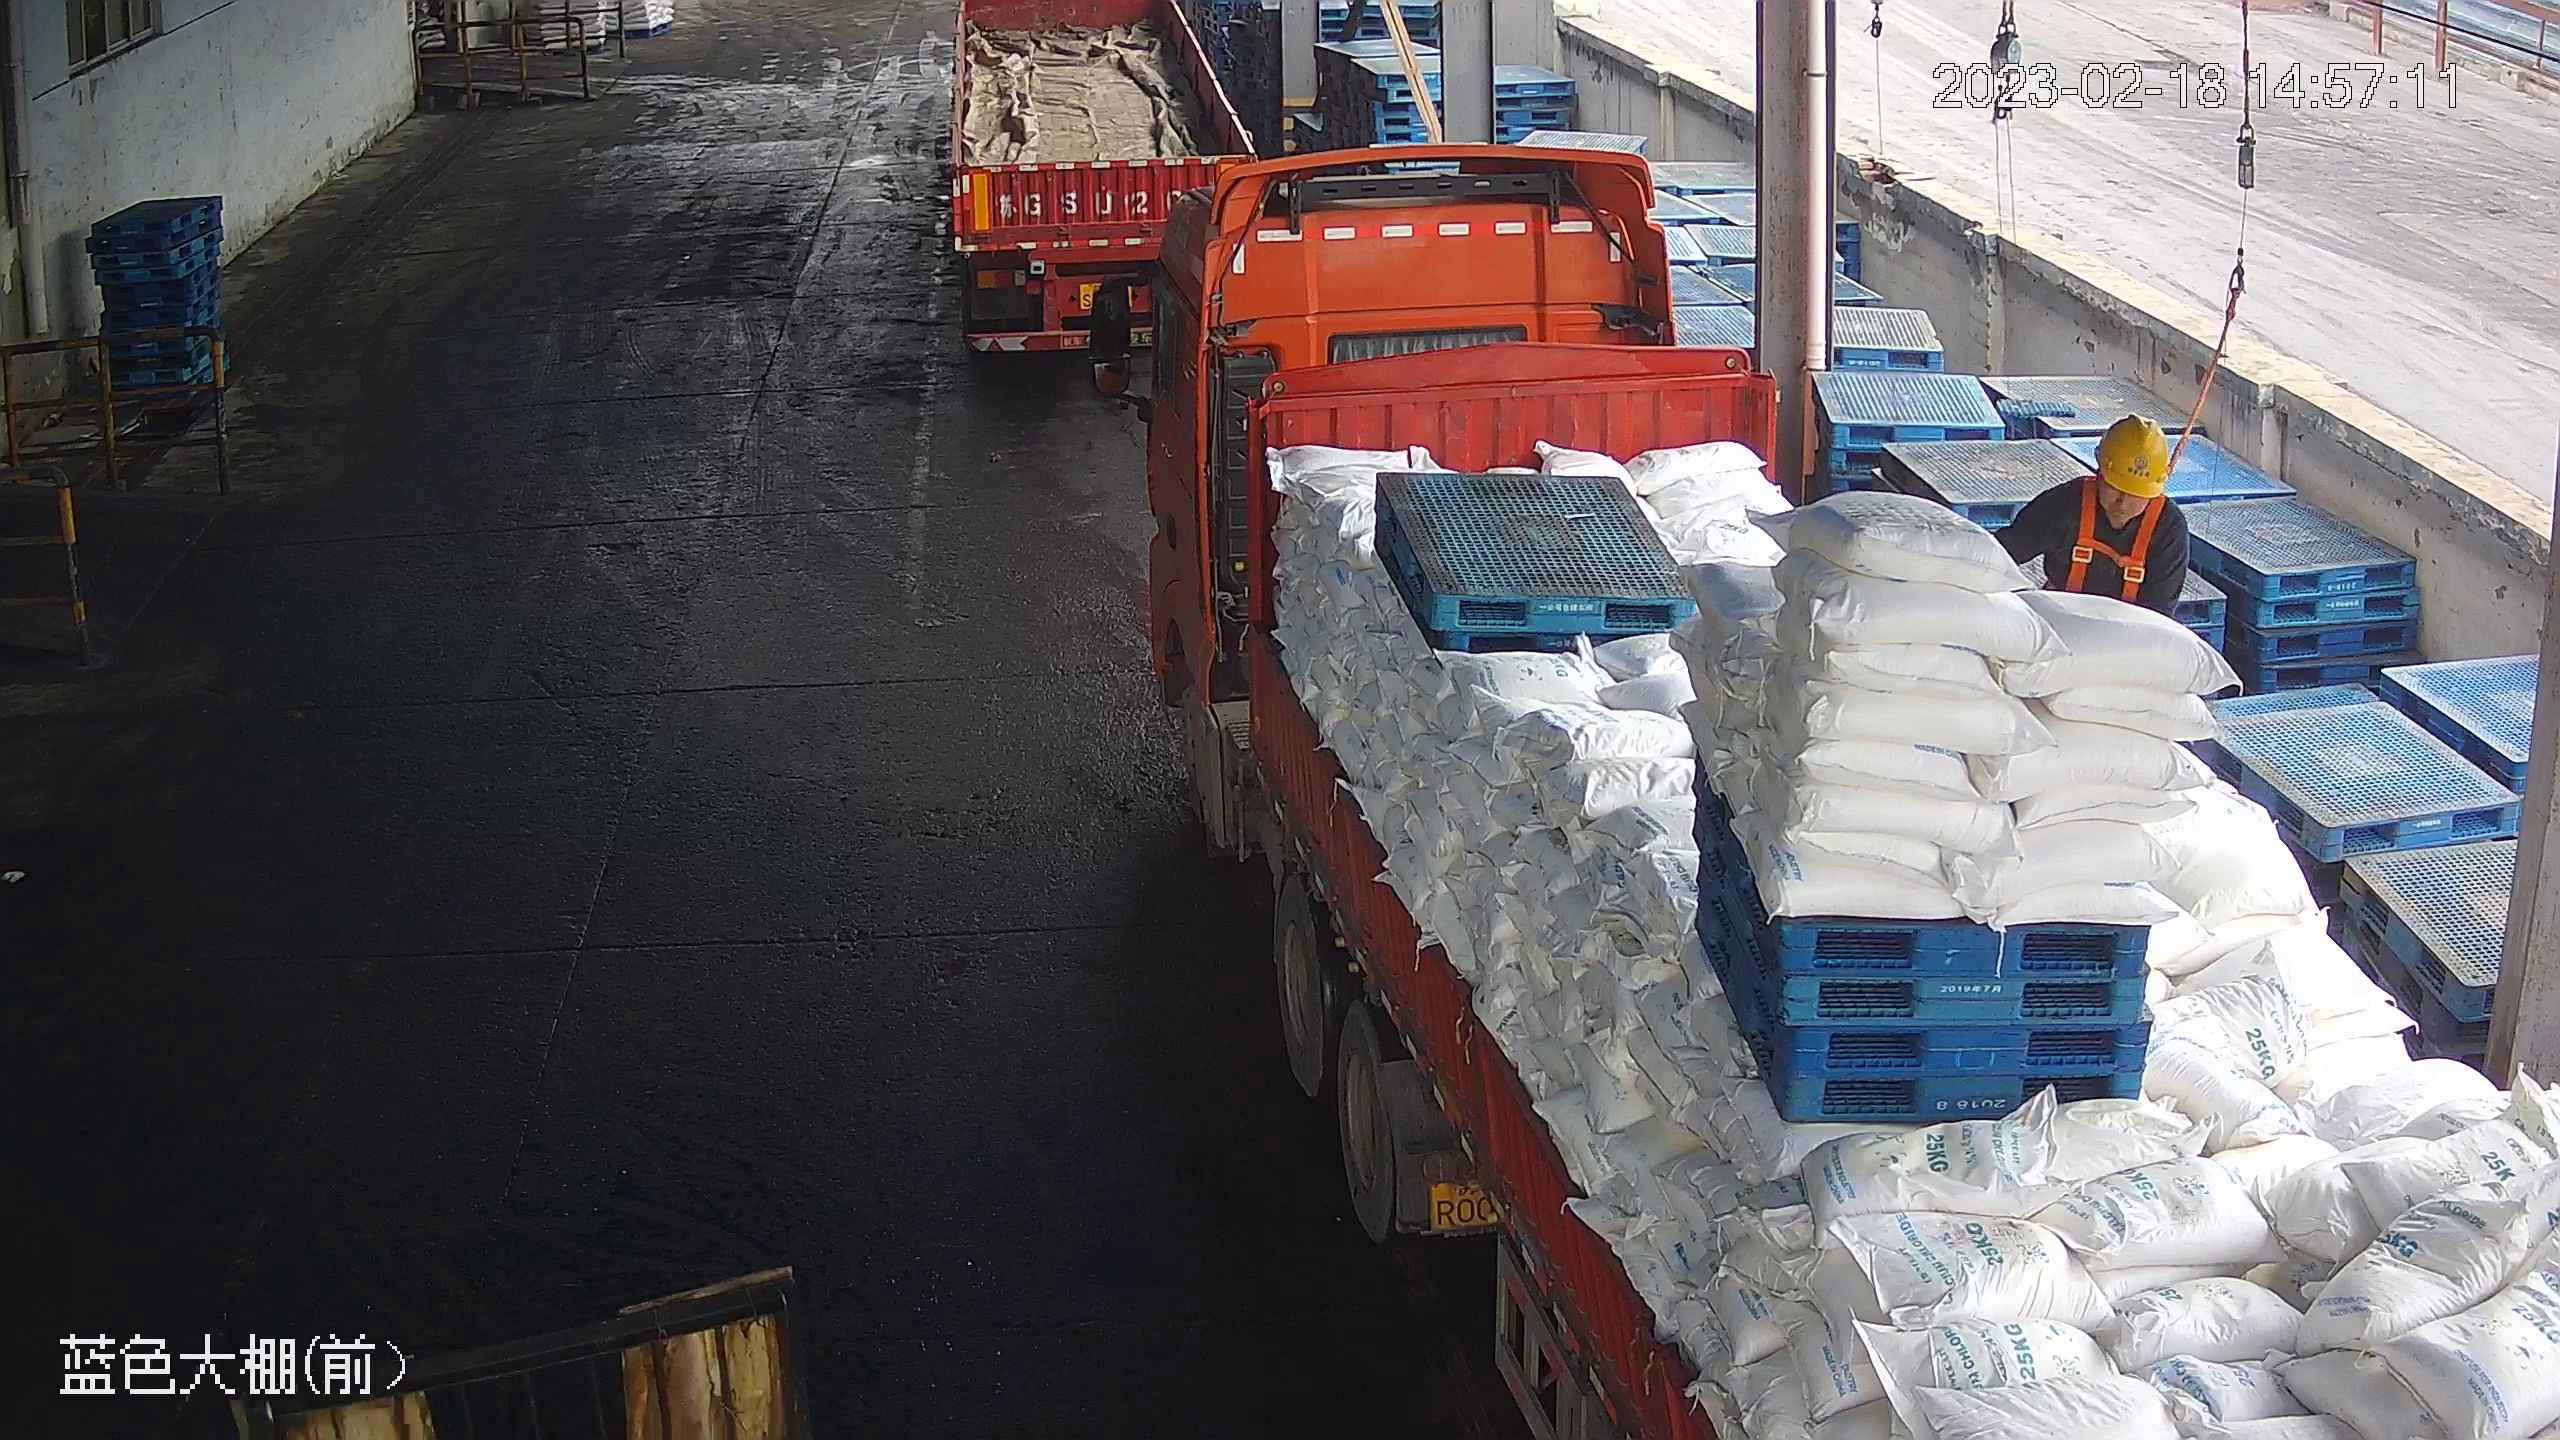belt: (2059, 479, 2161, 607)
head: (2021, 411, 2196, 560)
helmet: (2091, 411, 2178, 498)
truck: (1092, 155, 2556, 1440), (911, 1, 1282, 366)
